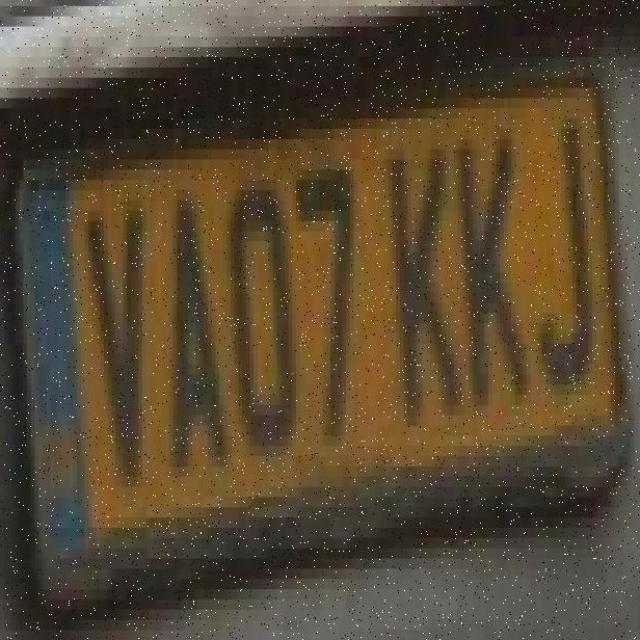license-plate: (8, 54, 639, 640)
